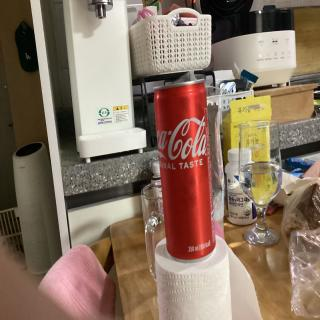cocacola: (154, 81, 222, 259)
